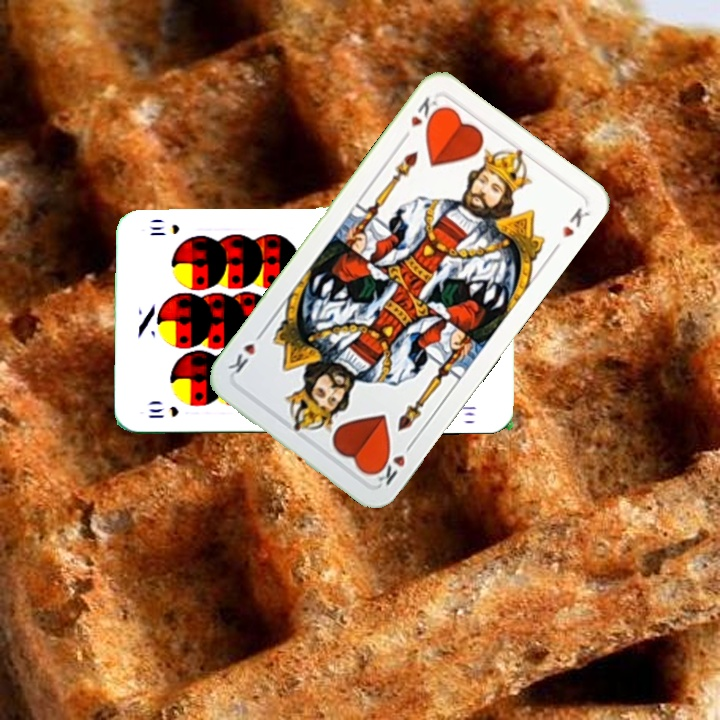HK: (369, 437, 418, 488), (397, 92, 445, 144)
S10: (144, 401, 181, 421)
